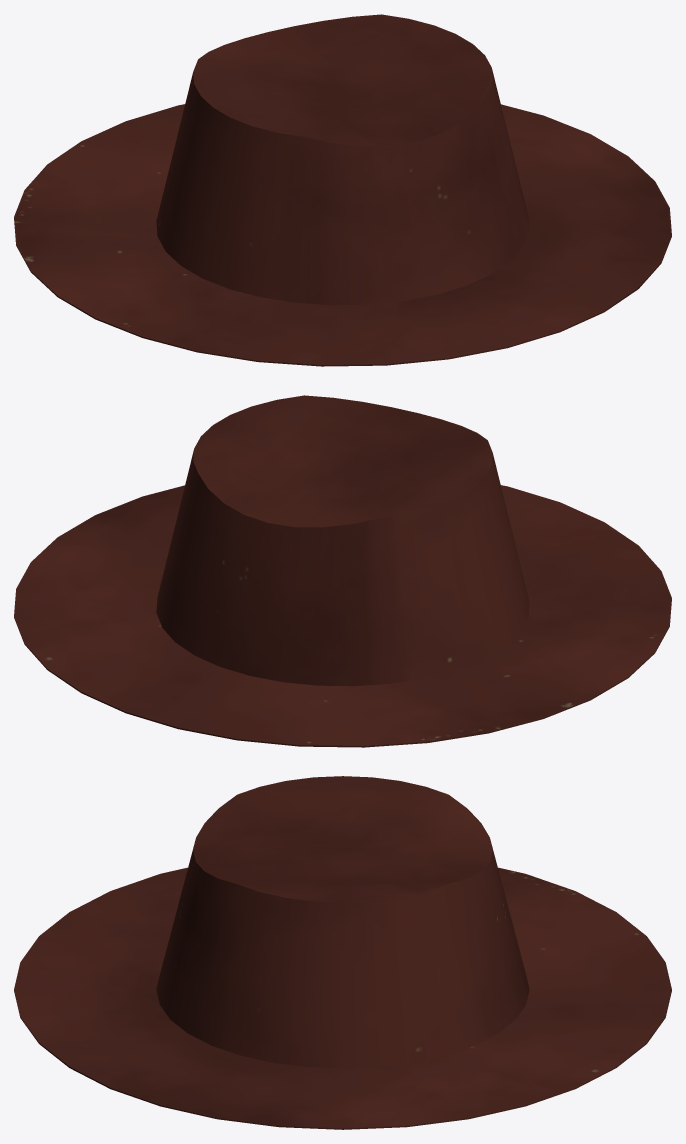
The model's file is Hat.FBX.
3 renders of one model, top to bottom at view 1: azimuth 30°, elevation 25°; view 2: azimuth 150°, elevation 25°; view 3: azimuth 270°, elevation 25°, orthographic.
Parts seen in each view (by area): view 1: Hat; view 2: Hat; view 3: Hat.
Part boxes in pixels (x1=…): Hat: x1=14, y1=14, x2=671, y2=366; Hat: x1=14, y1=395, x2=671, y2=747; Hat: x1=14, y1=776, x2=671, y2=1129.
Size of the model in its own units: 42.52 by 10.8 by 42.52.
